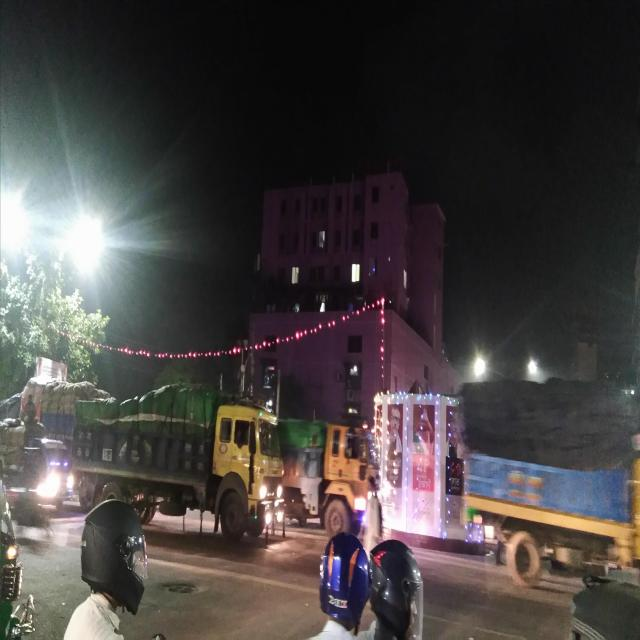pickup-van: (24, 424, 78, 506)
truck: (457, 369, 640, 593), (87, 378, 290, 564), (298, 408, 378, 536)
